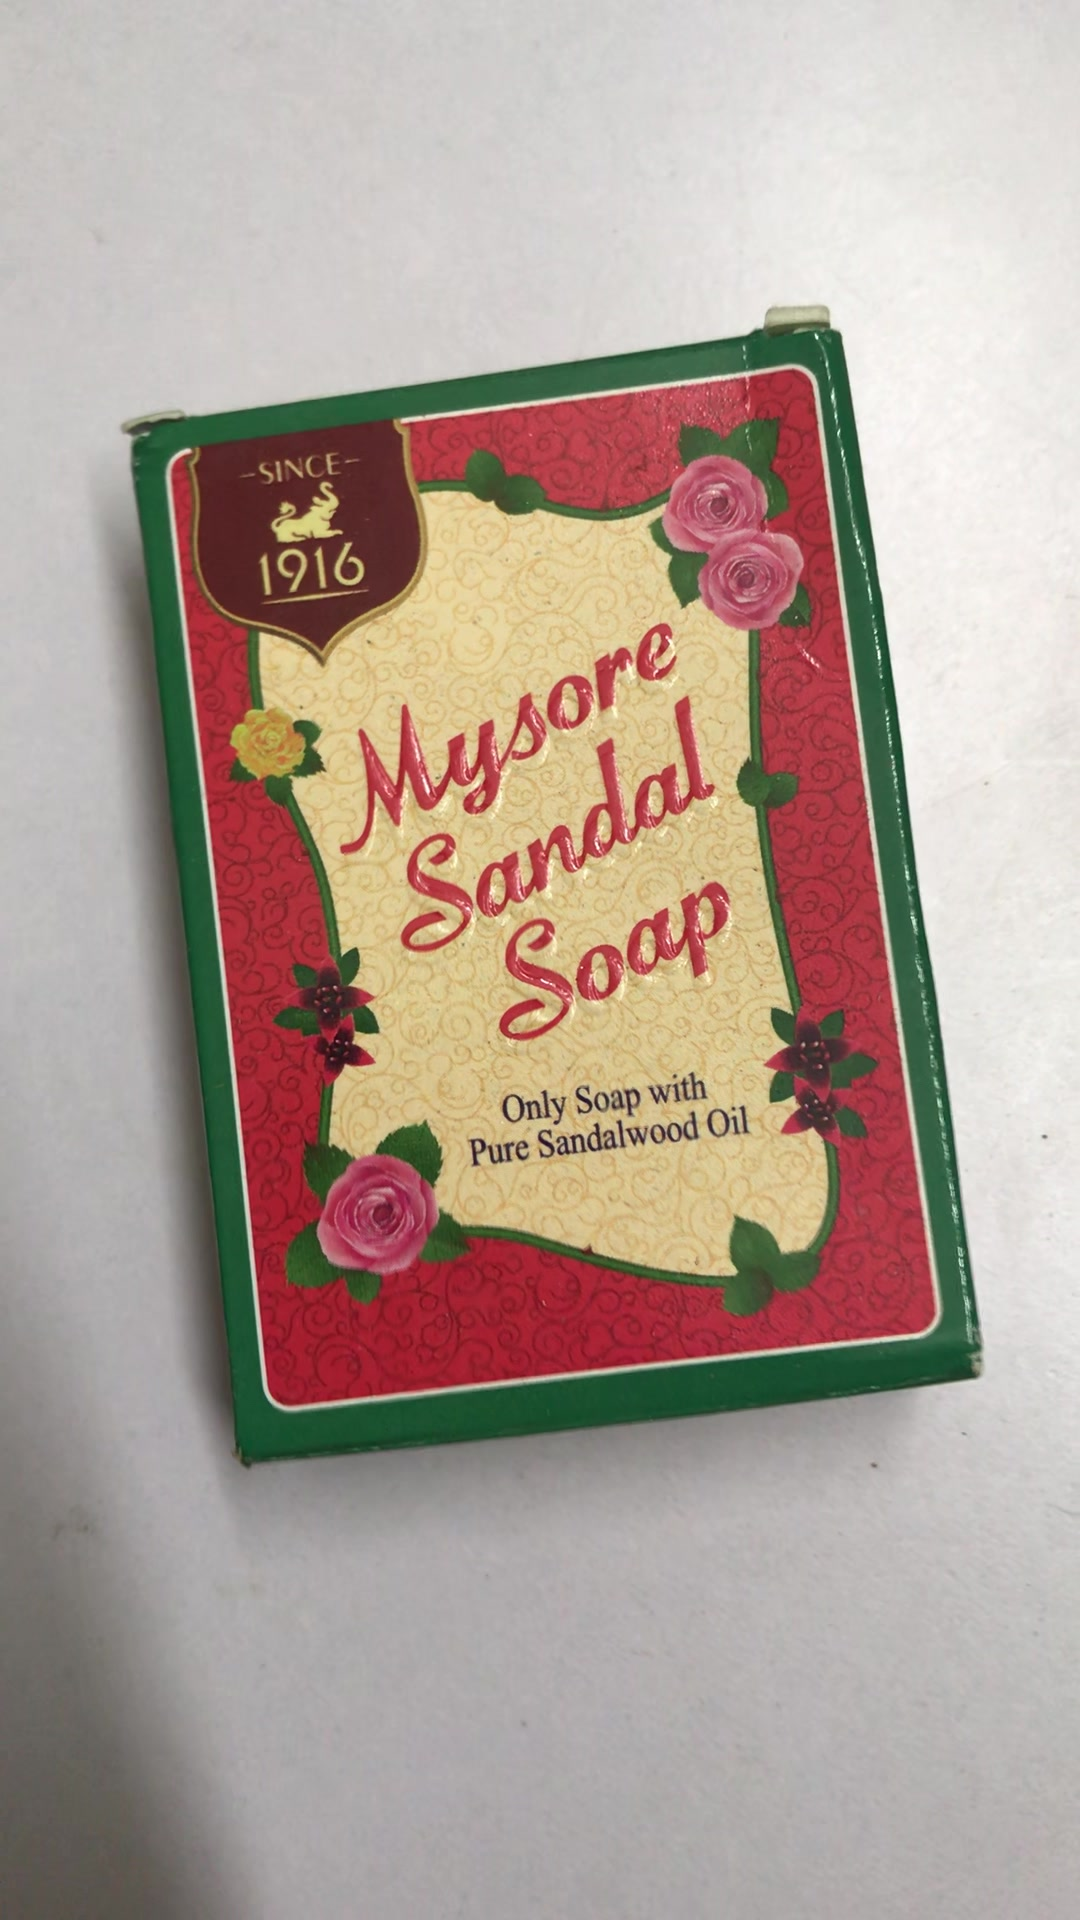mysore sandal soap: (132, 328, 982, 1462)
